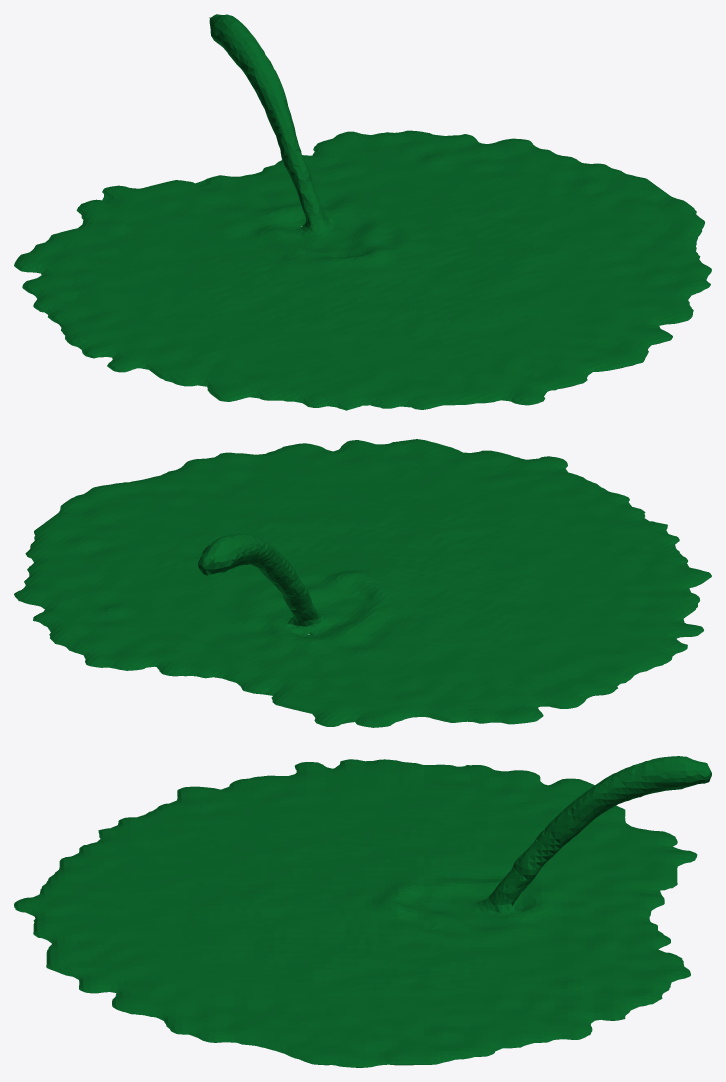
Rendered from fluid_46.fbx.
3 renders of one model, top to bottom at view 1: azimuth 30°, elevation 25°; view 2: azimuth 150°, elevation 25°; view 3: azimuth 270°, elevation 25°, orthographic. The views are drawn at different scales.
Parts seen in each view (by area): view 1: Cube; view 2: Cube; view 3: Cube.
Boxes of the visible parts, bbox=[...] form: Cube: bbox=[14, 14, 711, 410]; Cube: bbox=[14, 439, 711, 727]; Cube: bbox=[14, 756, 711, 1067].
Size of the model in its own units: 732 by 176 by 701.
